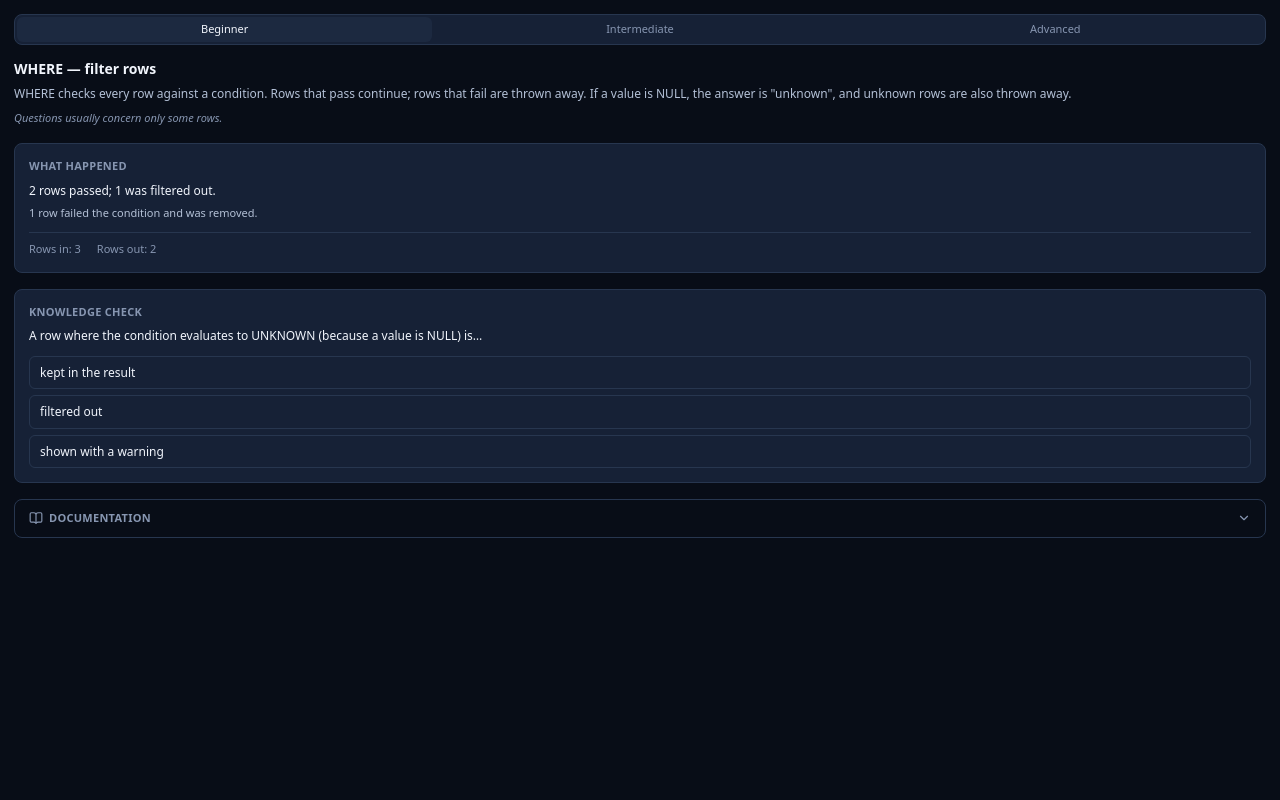
Scenario: ExplanationPanel › knowledge check: a wrong answer shows the explanation and marks the option
Step 1. Click the button "kept in the result" → click(88, 372), box [29,356,1251,389]
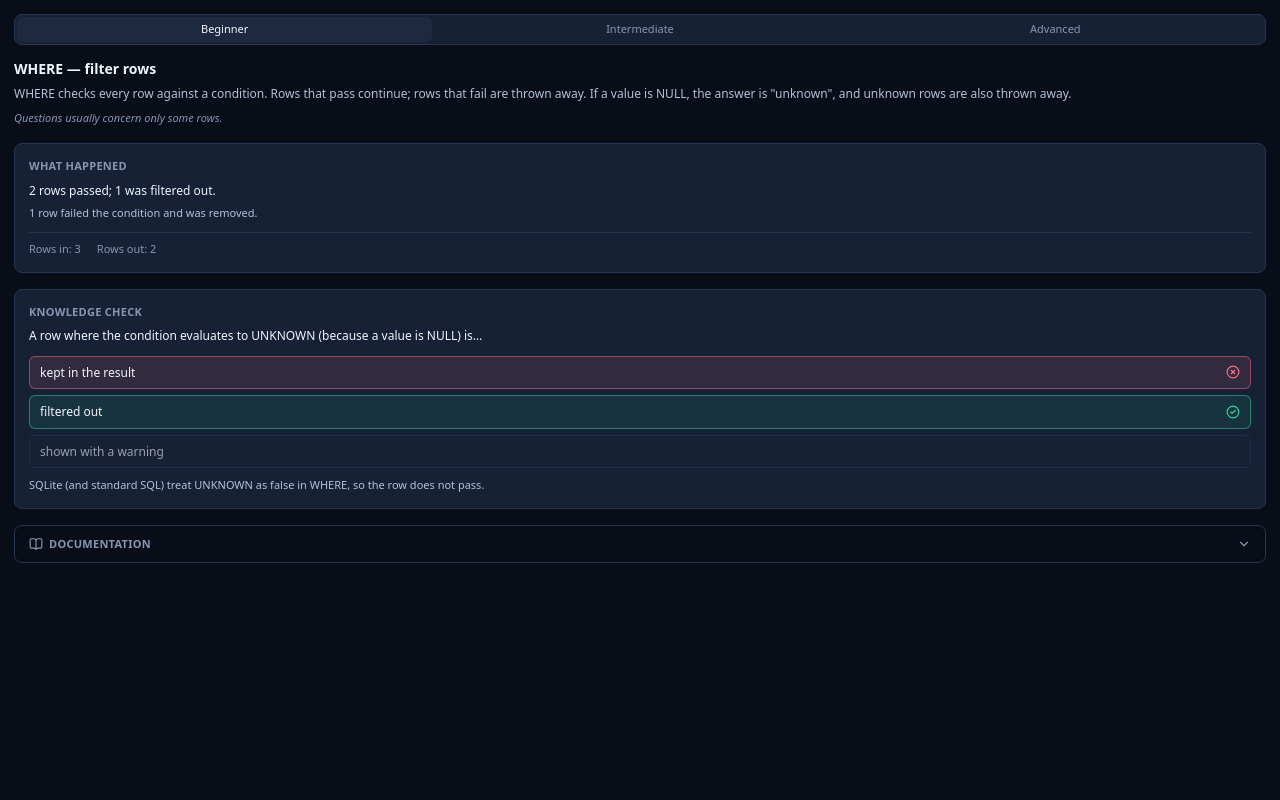
Expected: the button "filtered out" is disabled, [29,395,1251,428]
Expected: the text "treat UNKNOWN as false in WHERE" is shown, [29,477,484,492]
